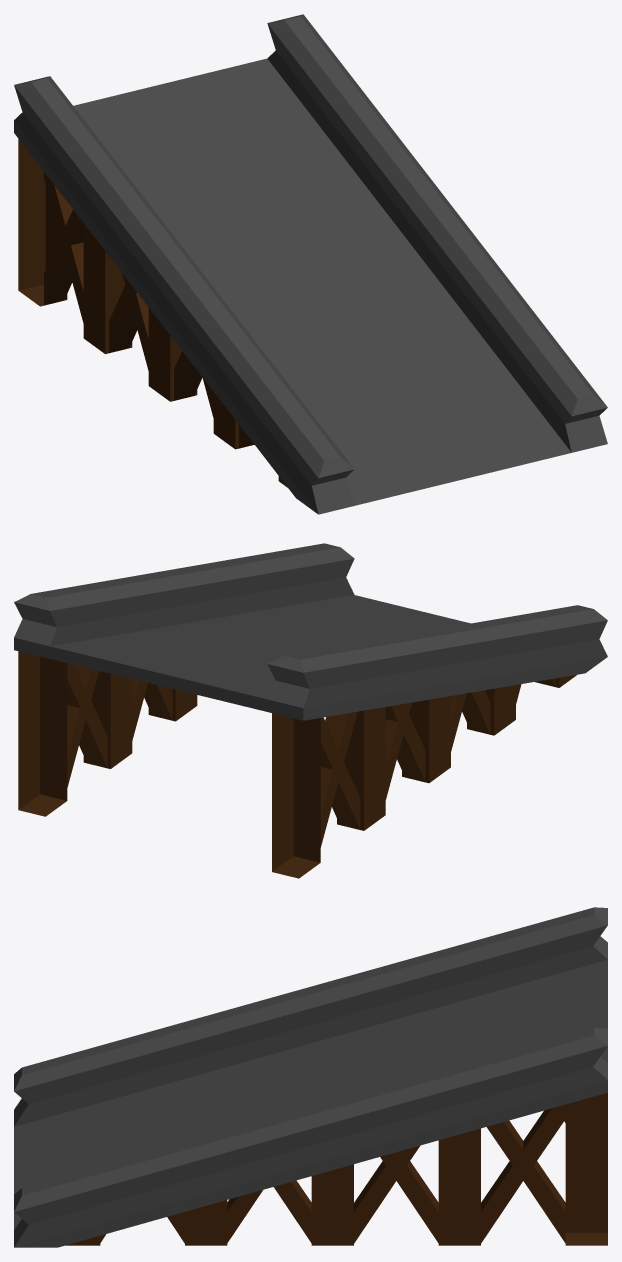
File: FinalSlope.fbx
3 renders of one model, top to bottom at view 1: azimuth 30°, elevation 25°; view 2: azimuth 150°, elevation 25°; view 3: azimuth 270°, elevation 25°, orthographic. The views are drawn at different scales.
Visible parts, largest first — view 1: Slope; view 2: Slope; view 3: Slope.
Part boxes in pixels (x1,y1,x2,y2): Slope: (14, 14, 607, 514); Slope: (14, 543, 607, 878); Slope: (14, 907, 607, 1247).
Size of the model in its own units: 311 by 218 by 566.
